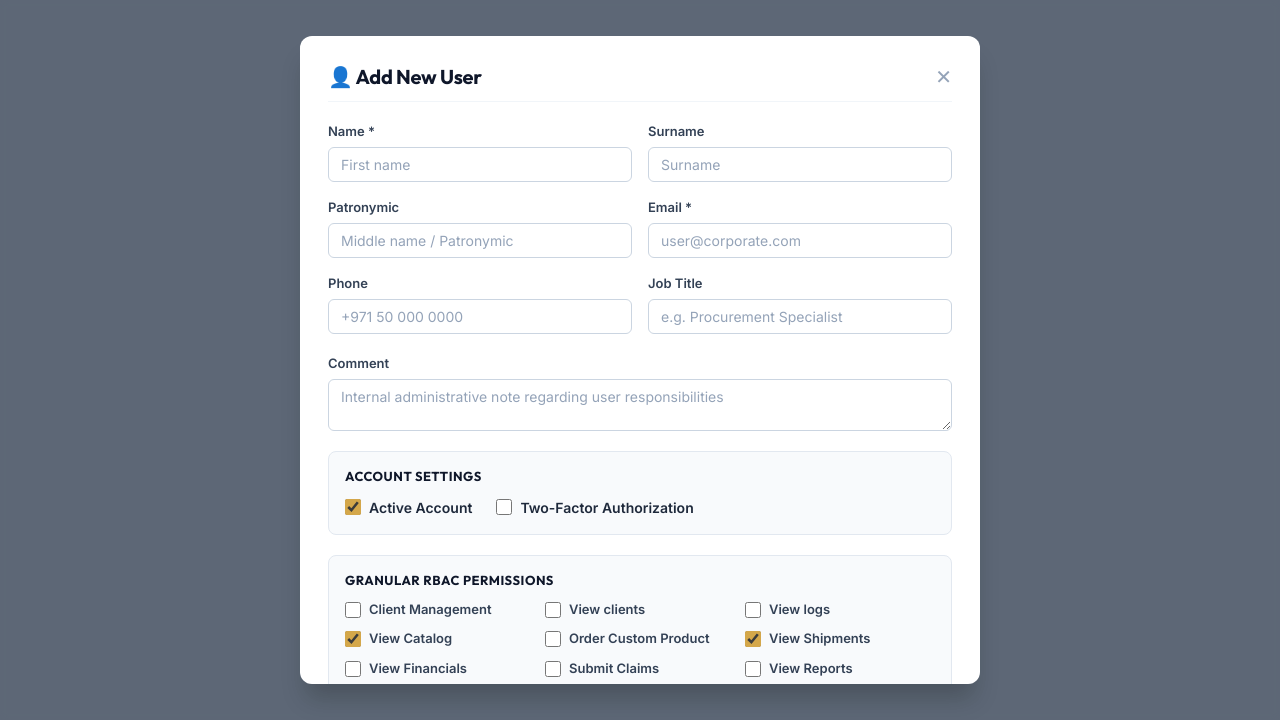
Test: Members Components & Page (FEAT-1.4) › AddMemberModal Component › displays error banner when createMember fails
In the field labelled "Name *": [480, 165] box [328,147,632,182], type "Samir"
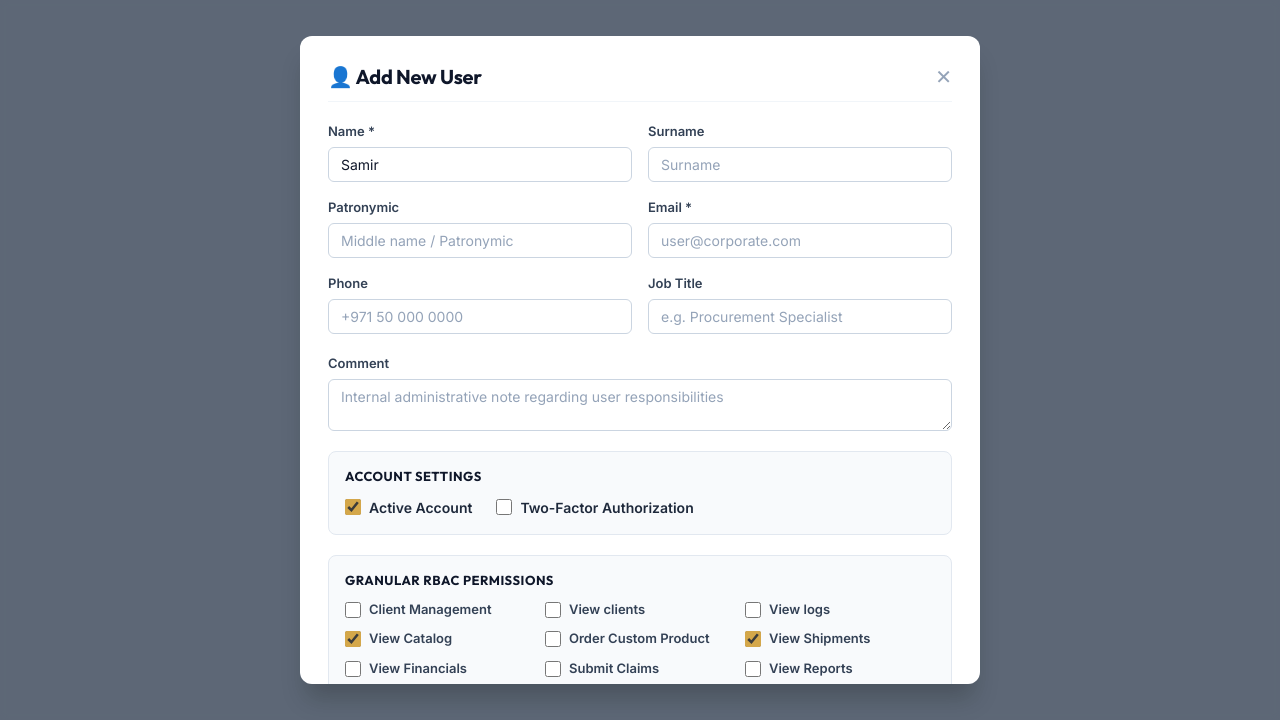
In the field labelled "Email *": [800, 241] box [648,223,952,258], type "samir@lulu.com"
(page scrolled)
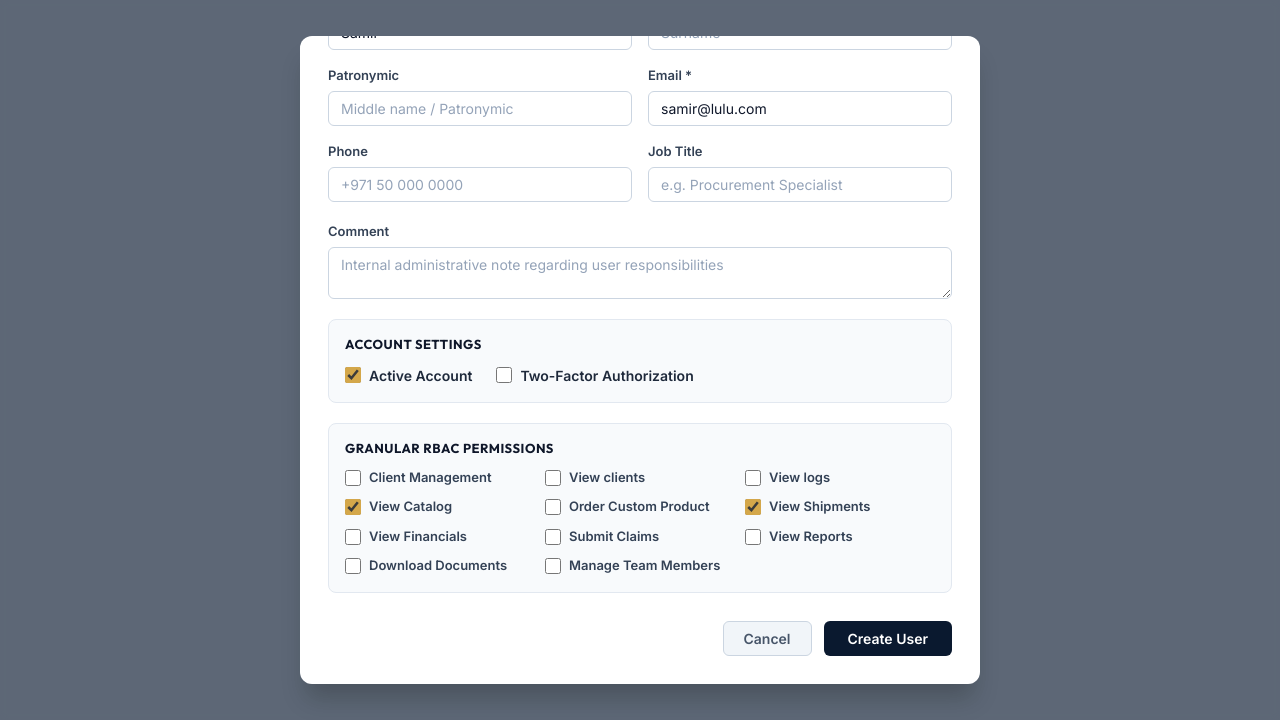
Click the button "Create User": [888, 638] box [824,621,952,656]
(page scrolled)
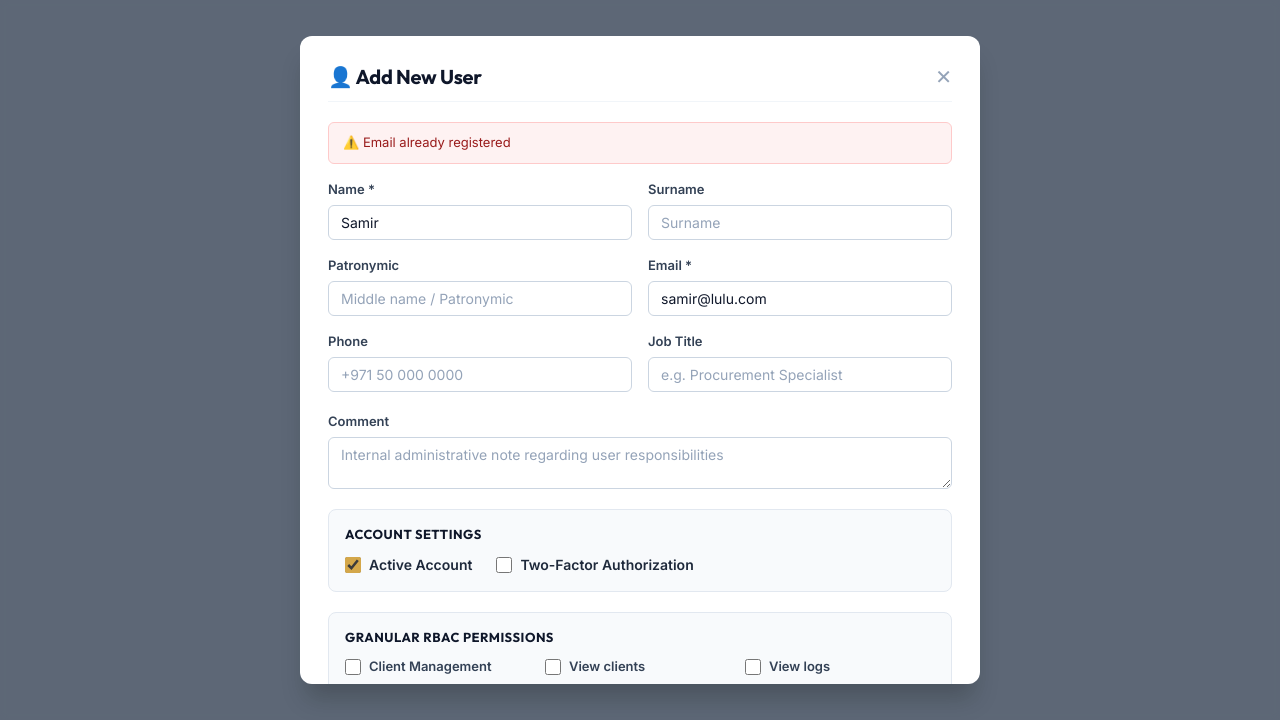
Check: the text "⚠️ Email already registered" is shown, box [328,122,952,164]
